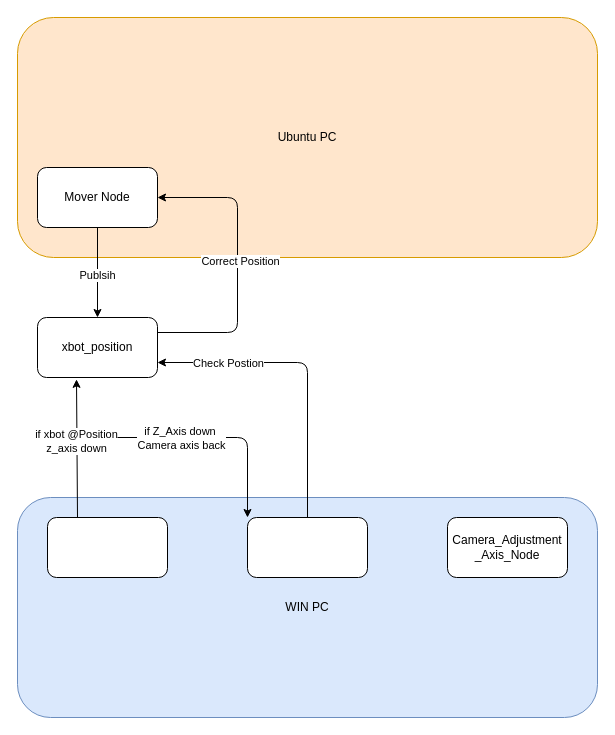
This 615x735 diagram has some shape labels left out. The shapes that lost their labels are listed below. From the top down, each one's centre as x and y in pixels, then its label:
the point at 107,547: Z_Axis_Node
the point at 307,547: Camera_Axis_Node
